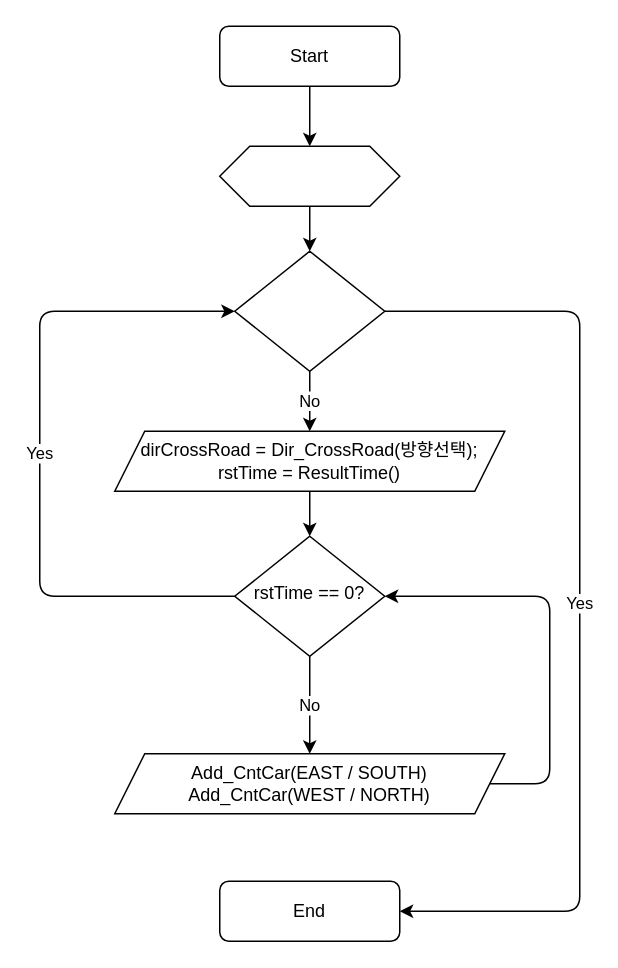
The diagram is 618 pixels wide and 968 high, and some of its shapes have lost their labels. Here are the shapes that lost their labels. From the top down, the centre of each, then its label:
the point at 309,175: Initialize
the point at 309,310: nTime > 3000?
